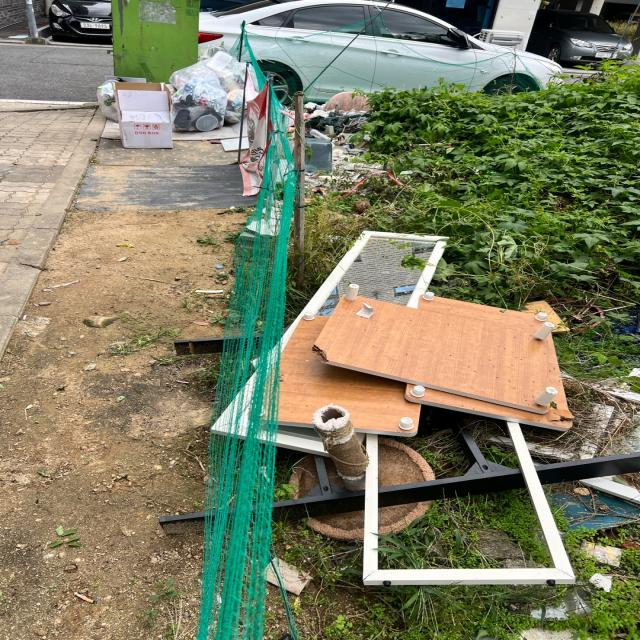General Waste: (253, 213, 578, 602), (107, 42, 267, 143)
Large Waste Items: (348, 396, 579, 597), (282, 284, 574, 441), (233, 224, 426, 455)
